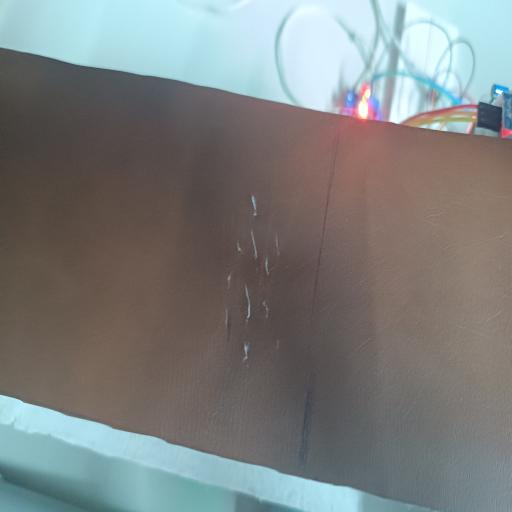belt_crack: (228, 87, 305, 512)
